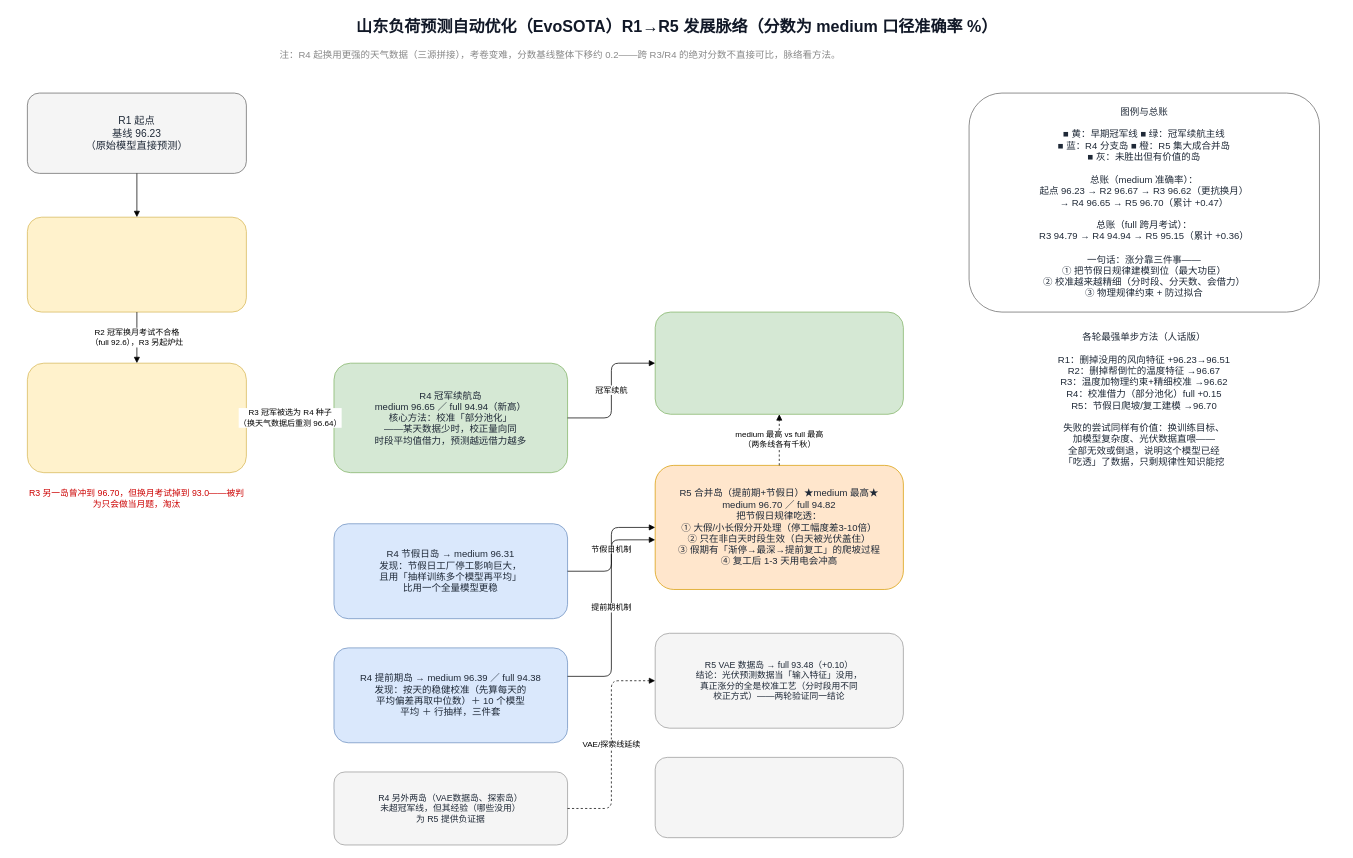
The diagram is 1353 pixels wide and 858 high, and some of its shapes have lost their labels. Here are the shapes that lost their labels. From the top down, the centre of each, then its label:
At [136,264]: "R2 冠军线（当时最高） 96.67 删掉 6 个帮倒忙的温度衍生特征 ＋ 换成和考试口径一致的训练目标".
At [778,362]: "R5 冠军续航岛 medium 96.69 ／ full 95.15 ★历史最高★ 方法：继续微调校准力度—— 第1天数据新鲜，校正可以更激进".
At [136,417]: "R3 冠军（后来被选为正统） 96.62 ① 给温度特征加物理规律约束 ② 节假日、度日数等新特征 ③ 分时段/分天数精细校准 ④ 收紧正则化防止死记硬背".
At [778,797]: "R5 两个探索岛 → full 93.67 / 93.58 均超过 R4 探索岛（92.73）， 但离冠军线还有距离".
